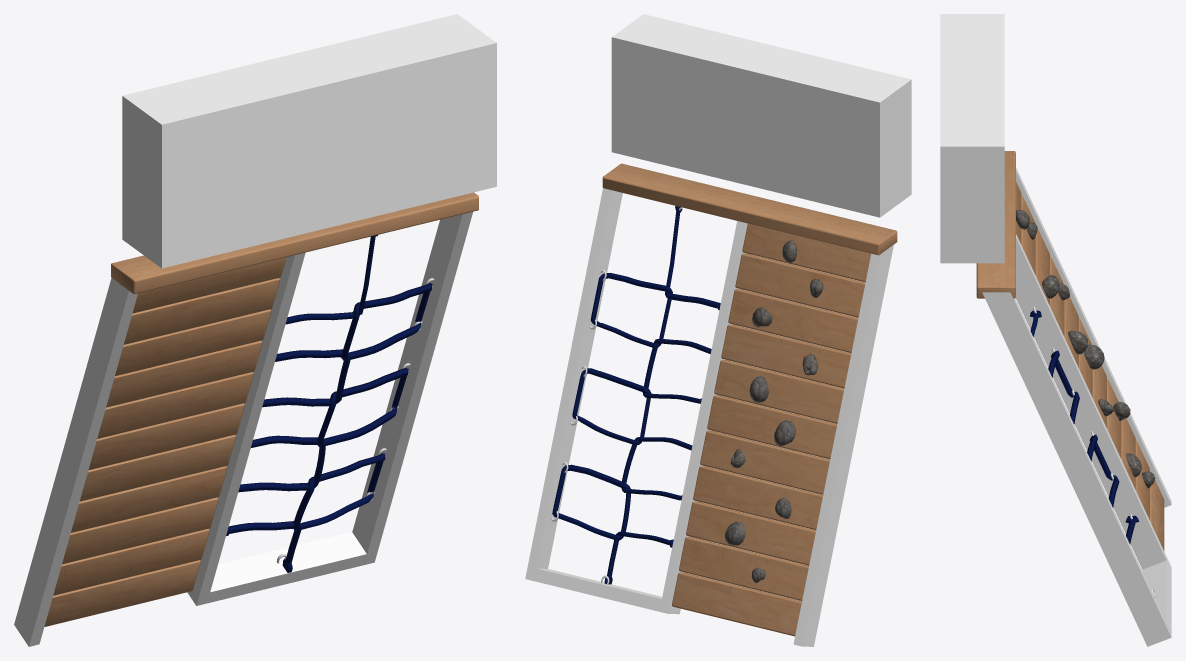
Rendered from P-CC-5.6bab4cbc.glb.
3 renders of one model, left to right at view 1: azimuth 30°, elevation 25°; view 2: azimuth 150°, elevation 25°; view 3: azimuth 270°, elevation 25°, orthographic. The views are drawn at different scales.
Parts seen in each view (by area): view 1: joint_c,0,6, Cube168, Cube168_1, Cube168_3; view 2: Cube168, joint_c,0,6, Cube168_1, Cube168_3, Cube168_4; view 3: Cube168_1, joint_c,0,6, Cube168, Cube168_4, Cube168_3.
Part boxes in pixels (x1,y1,x2,y2): joint_c,0,6: (122, 14, 496, 268); Cube168: (44, 192, 478, 626); Cube168_1: (14, 211, 472, 646); Cube168_3: (226, 235, 432, 572); Cube168: (602, 163, 897, 636); joint_c,0,6: (611, 14, 911, 217); Cube168_1: (525, 188, 893, 646); Cube168_3: (552, 206, 720, 584); Cube168_4: (725, 240, 823, 583); Cube168_1: (982, 168, 1171, 646); joint_c,0,6: (940, 14, 1004, 263); Cube168: (976, 151, 1164, 550); Cube168_4: (1016, 209, 1155, 488); Cube168_3: (1030, 310, 1138, 544).
Bounding box in the file's own units: 1.26 × 2.14 × 0.8984.
Materials: 6 (3 with a texture image).
